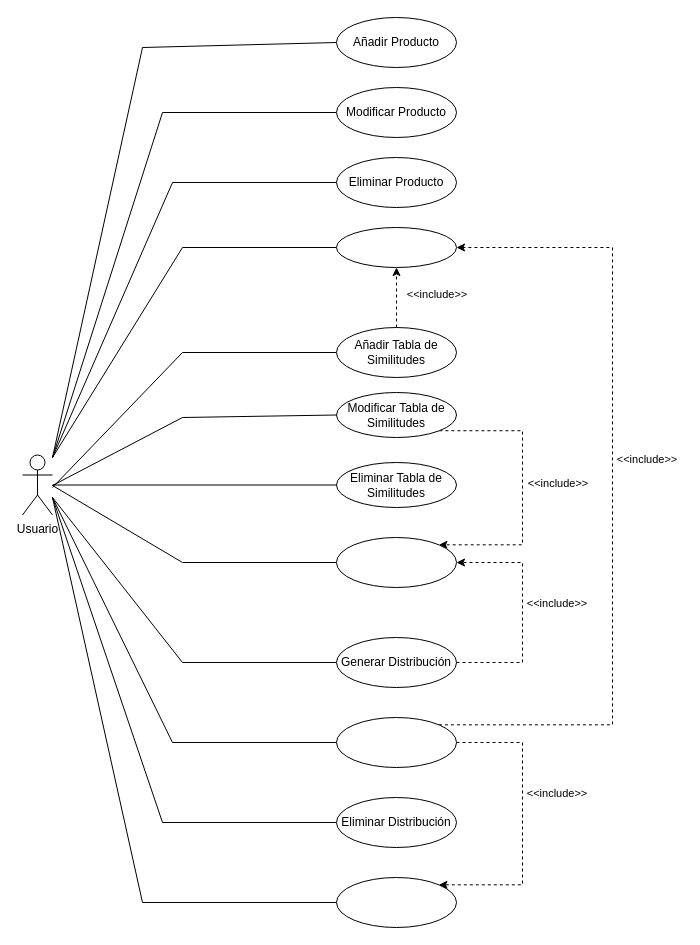
The diagram is 700 pixels wide and 945 high, and some of its shapes have lost their labels. The shapes that lost their labels are listed below. From the top down, each one's centre as x and y in pixels, then its label:
At (396,247): "Consulta Producto".
At (396,562): "Consulta Tabla de Similitudes".
At (396,742): "Modificar Distribución".
At (396,902): "Consulta Distribución".
